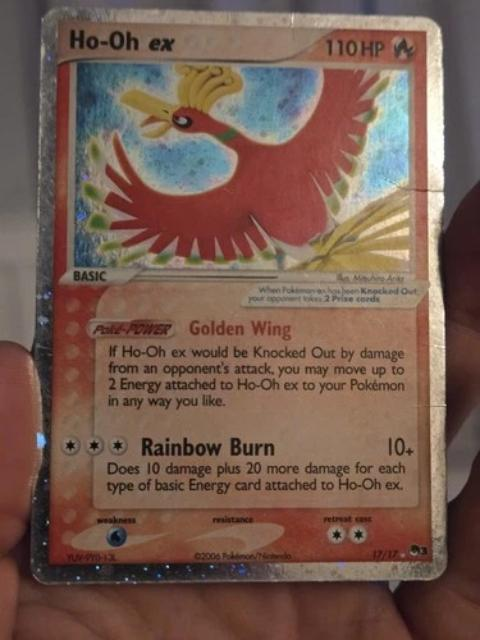Card: (26, 3, 454, 591)
Name: (61, 23, 182, 59)
